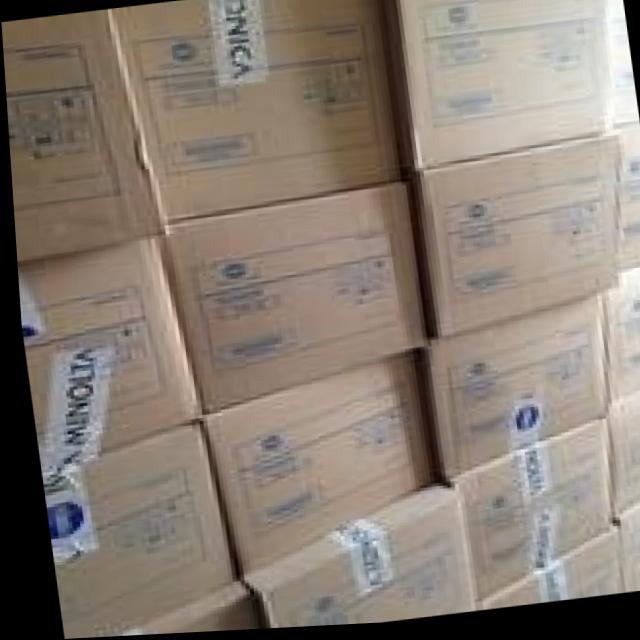box: (107, 0, 402, 221), (155, 185, 422, 416), (196, 348, 439, 583), (401, 135, 615, 344), (34, 422, 232, 639), (14, 237, 197, 470), (1, 13, 158, 263), (393, 0, 607, 180), (232, 486, 474, 631), (418, 298, 603, 486), (439, 425, 612, 606), (474, 532, 616, 611), (108, 580, 255, 637), (603, 271, 640, 421), (600, 404, 640, 523), (612, 130, 640, 276), (608, 507, 640, 596)
